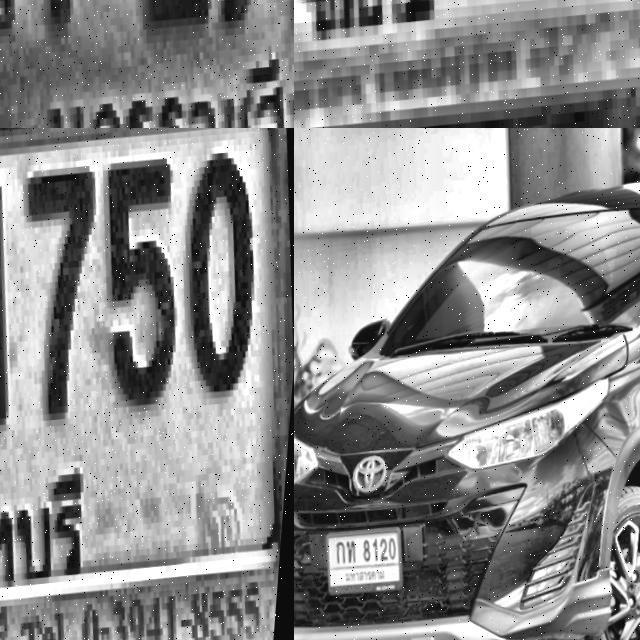license-plate: (0, 128, 294, 640), (294, 0, 640, 128), (0, 0, 294, 128), (329, 525, 415, 597)
